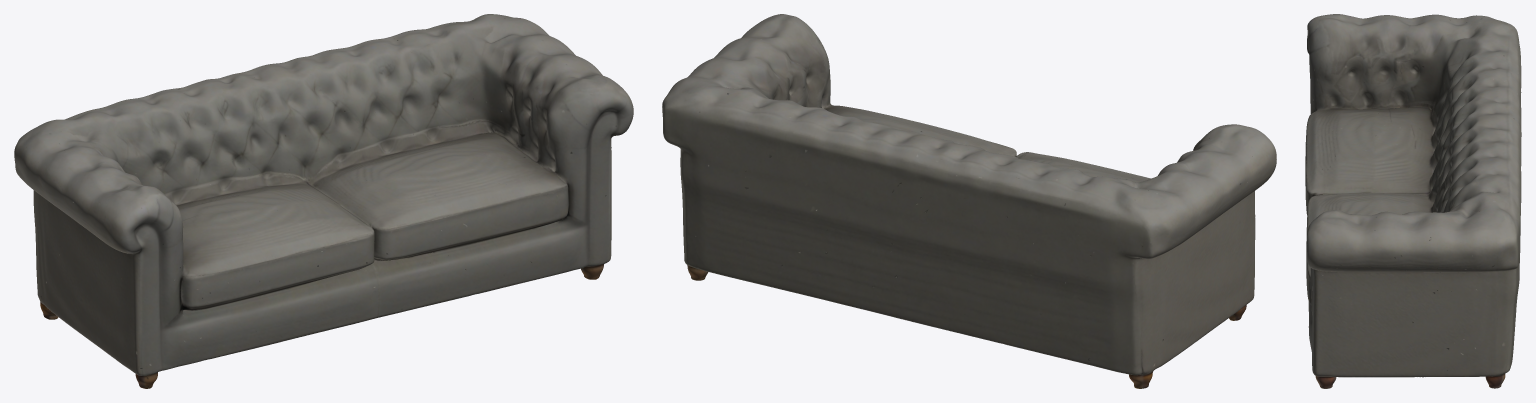
Rendered from poltrona.glb.
3 renders of one model, left to right at view 1: azimuth 30°, elevation 25°; view 2: azimuth 150°, elevation 25°; view 3: azimuth 270°, elevation 25°, orthographic. The views are drawn at different scales.
Bounding box in the file's own units: 2 × 0.7166 × 0.8007.
Materials: 1 (1 with a texture image).
